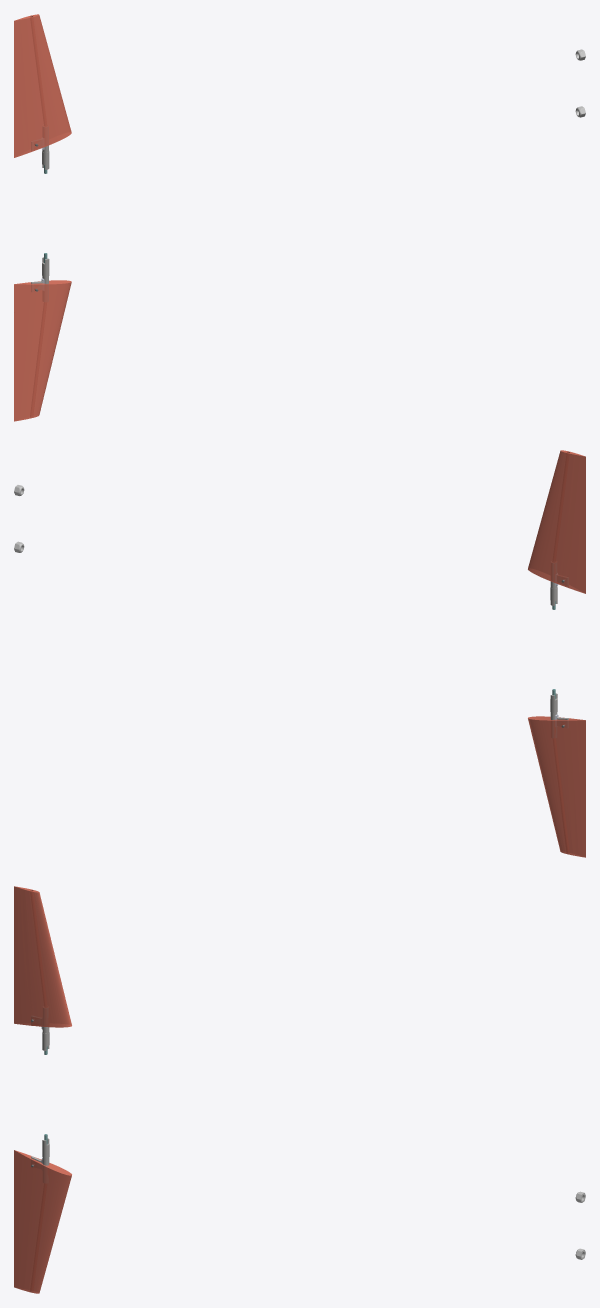
The model's file is vertical.dae.
The picture shows the model from 3 angles, top to bottom: view 1: azimuth 30°, elevation 25°; view 2: azimuth 150°, elevation 25°; view 3: azimuth 330°, elevation 25°; orthographic projection.
Parts seen in each view (by area): view 1: Shape_IndexedFaceSet_021, Shape_IndexedFaceSet_027; view 2: Shape_IndexedFaceSet_021, Shape_IndexedFaceSet_027; view 3: Shape_IndexedFaceSet_021, Shape_IndexedFaceSet_027.
Part boxes in pixels (x1,y1,x2,y2): Shape_IndexedFaceSet_021: (14,14,71,157); Shape_IndexedFaceSet_027: (14,280,71,421); Shape_IndexedFaceSet_021: (528,450,585,593); Shape_IndexedFaceSet_027: (528,716,585,857); Shape_IndexedFaceSet_021: (14,886,71,1027); Shape_IndexedFaceSet_027: (14,1150,71,1293).
Size of the model in its own units: 0.8647 by 0.0151 by 0.5819.
